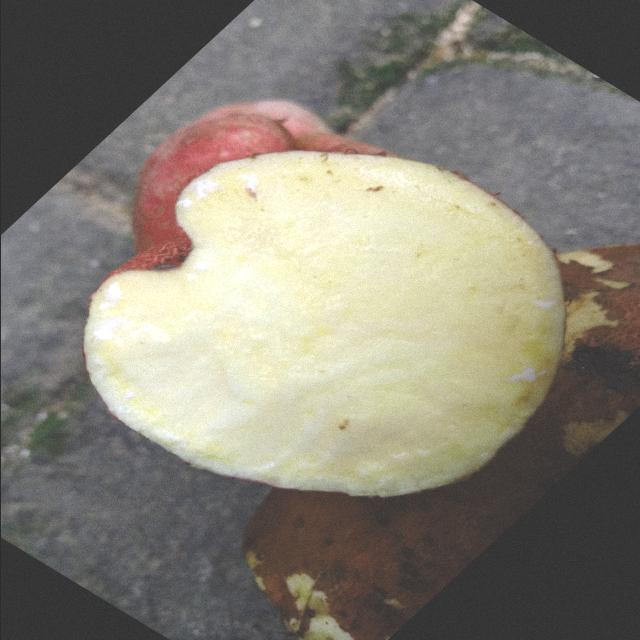Healthy Sweet Potato: (83, 151, 563, 496)
